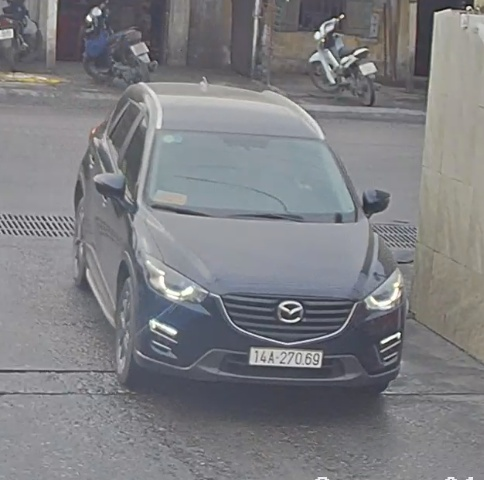vehicle plate: (249, 341, 327, 371)
